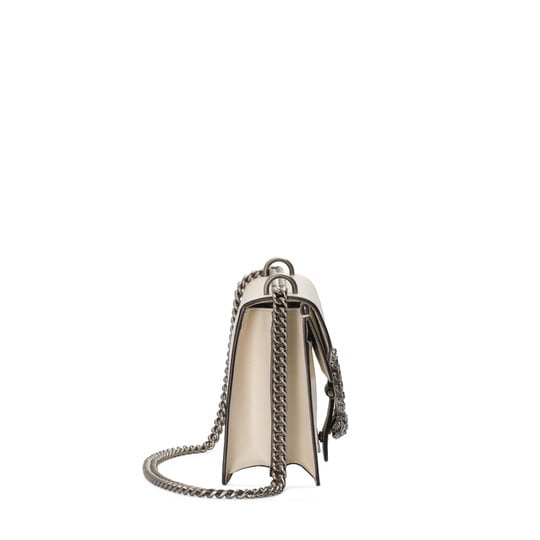Gucci: (204, 261, 351, 493)
